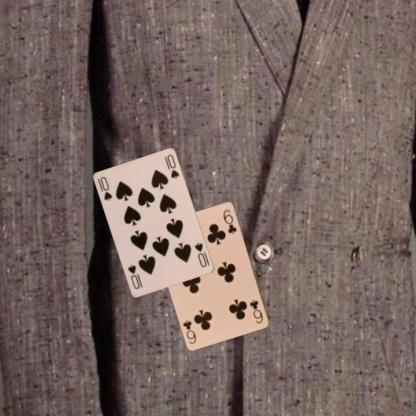10s: (95, 174, 113, 202), (192, 240, 207, 268)
6c: (247, 298, 264, 324)
